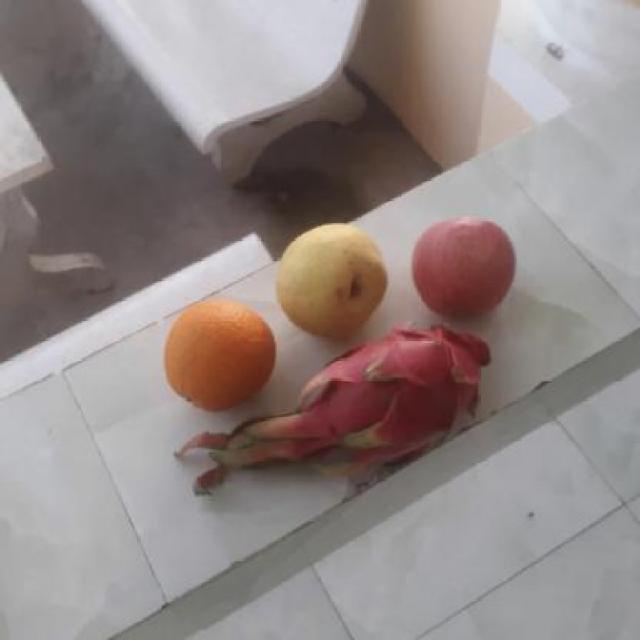apple: (413, 217, 521, 320)
dragon fruit: (298, 320, 498, 458)
oren: (163, 300, 280, 408)
pear: (270, 224, 395, 338)
